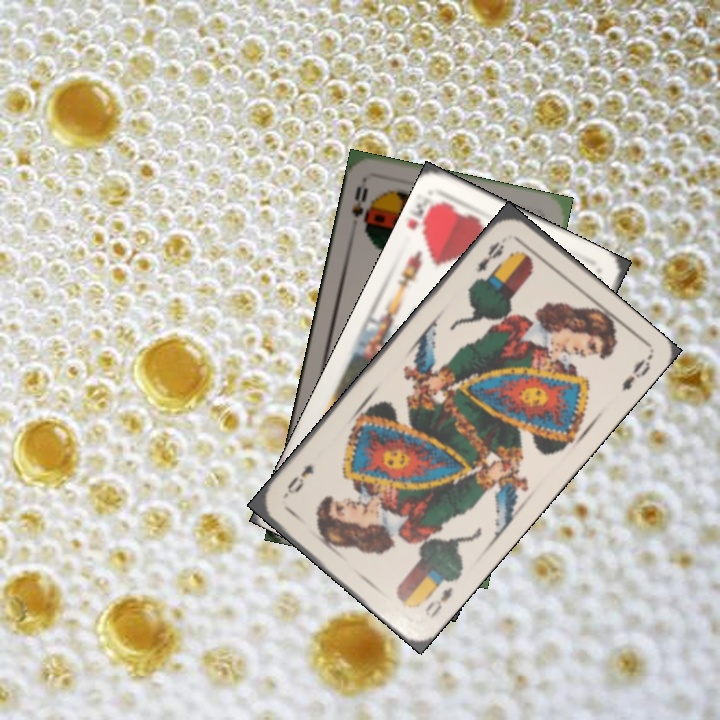EO: (473, 237, 508, 276), (421, 583, 456, 620)
HK: (403, 196, 444, 244)
SO: (347, 177, 374, 236)
